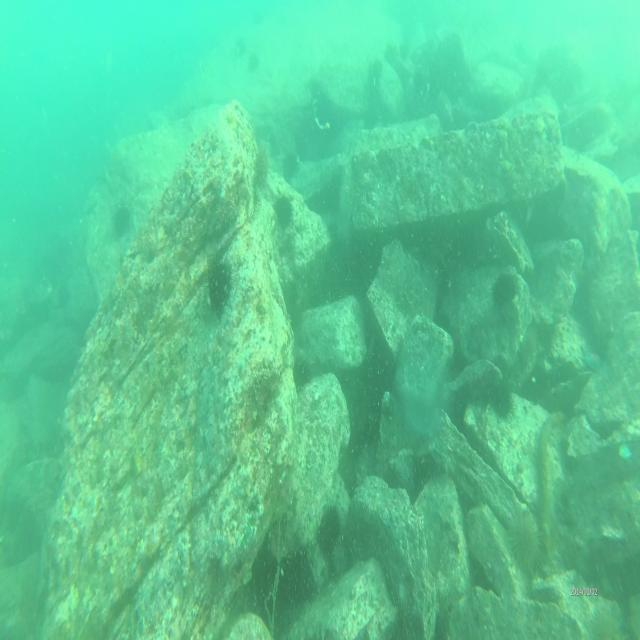echinus: (508, 508, 545, 580), (206, 253, 235, 315), (315, 499, 344, 559), (490, 262, 520, 310), (491, 374, 515, 424), (253, 145, 271, 196), (537, 316, 559, 356), (113, 202, 133, 236), (274, 192, 294, 226), (292, 358, 313, 390), (248, 48, 261, 76), (234, 34, 246, 58)
